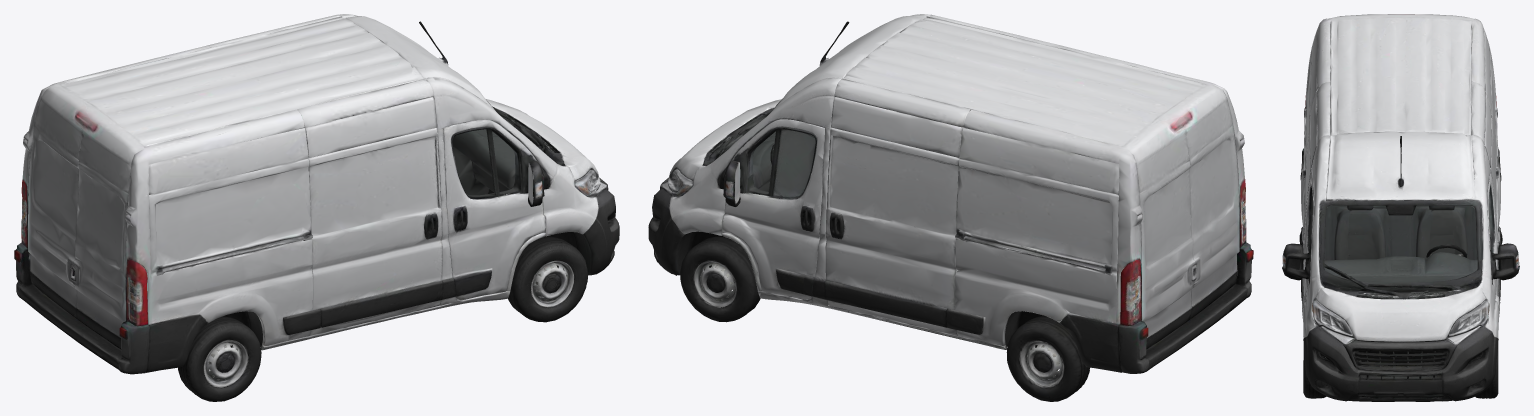
The model's file is veh_van.glb.
3 renders of one model, left to right at view 1: azimuth 30°, elevation 25°; view 2: azimuth 150°, elevation 25°; view 3: azimuth 270°, elevation 25°, orthographic. The views are drawn at different scales.
Visible parts, largest first — view 1: tripo_node_0bd2090c-3c22-4a16-ac04-61c12d3202cf; view 2: tripo_node_0bd2090c-3c22-4a16-ac04-61c12d3202cf; view 3: tripo_node_0bd2090c-3c22-4a16-ac04-61c12d3202cf.
Boxes of the visible parts, left/top/right/bottom form: tripo_node_0bd2090c-3c22-4a16-ac04-61c12d3202cf: left=14, top=14, right=619, bottom=401; tripo_node_0bd2090c-3c22-4a16-ac04-61c12d3202cf: left=648, top=14, right=1253, bottom=401; tripo_node_0bd2090c-3c22-4a16-ac04-61c12d3202cf: left=1282, top=14, right=1519, bottom=401.
Bounding box in the file's own units: 0.98 × 0.4976 × 0.4676.
Materials: 1 (1 with a texture image).
